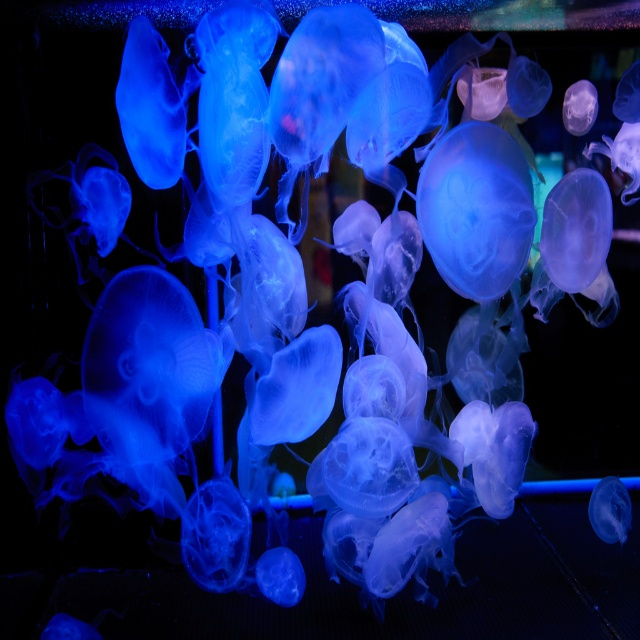Jellyfish: (5, 0, 640, 640)
